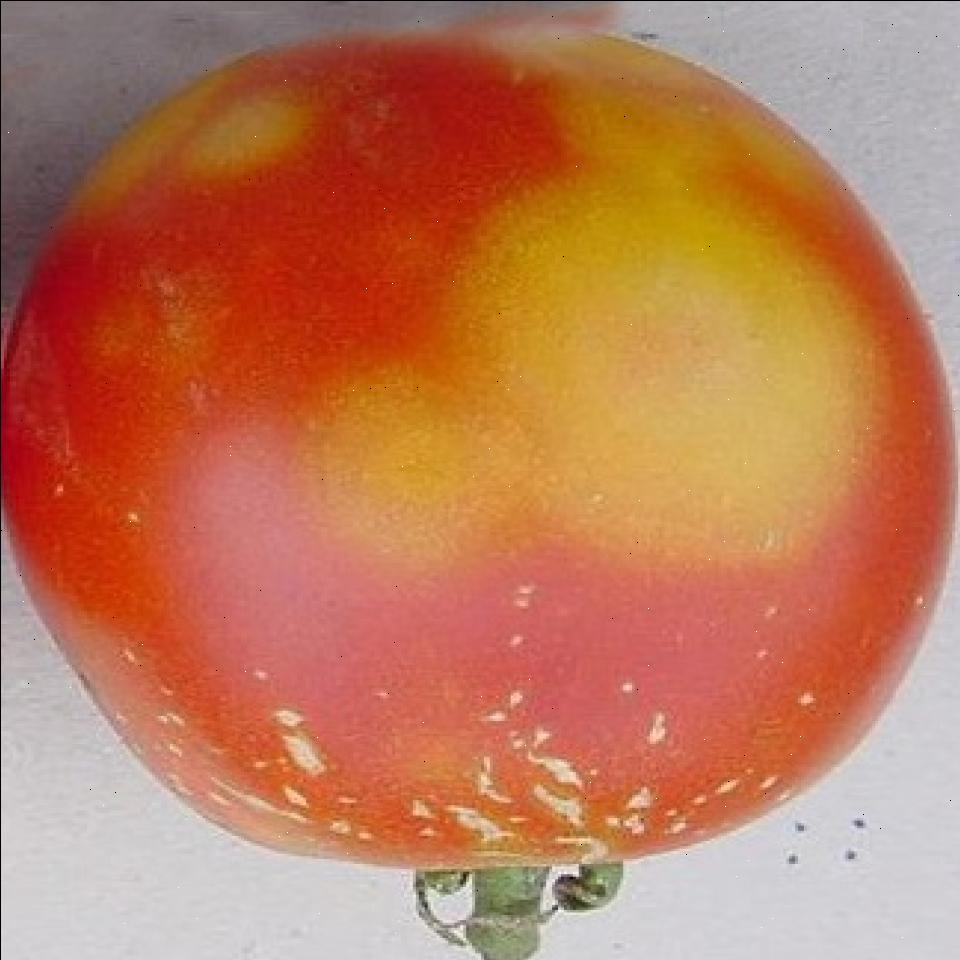Spotted wilt Virus: (0, 26, 951, 866)
